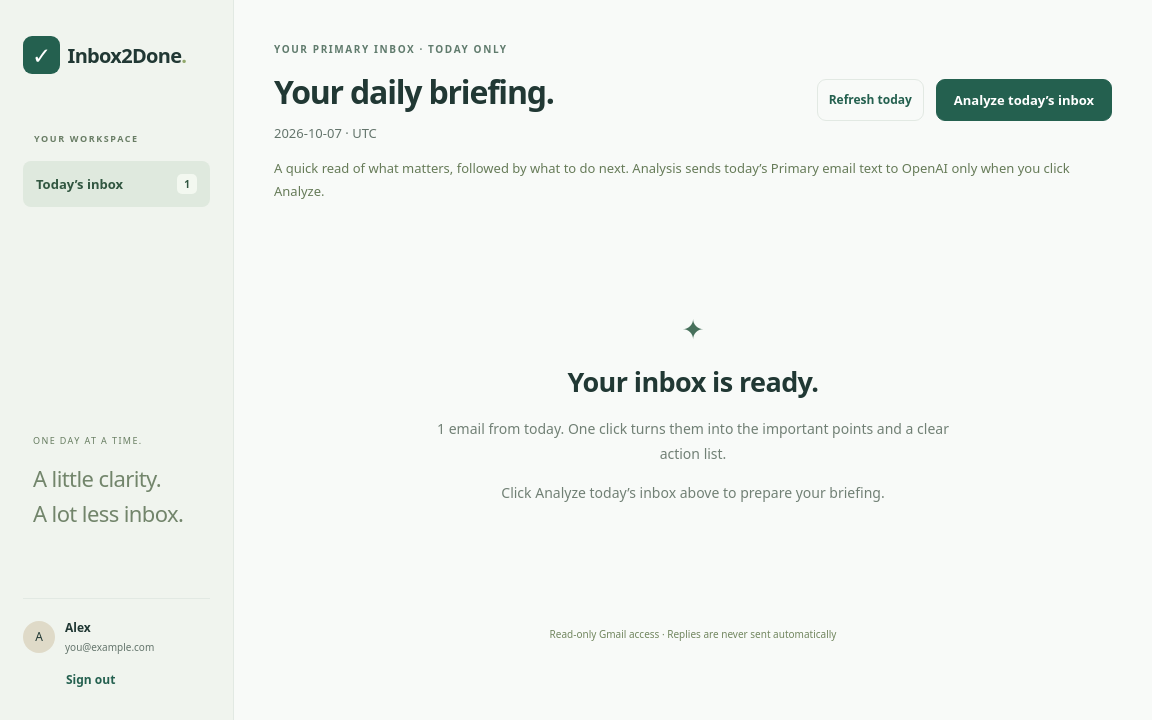
Test: sign out stops showing the inbox
Check: the heading "Your inbox is ready." is shown, box top-left (568, 363), bottom-right (818, 400)
Step 1. Click the button "Sign out" → coordinates (91, 680), box top-left (55, 664), bottom-right (126, 695)
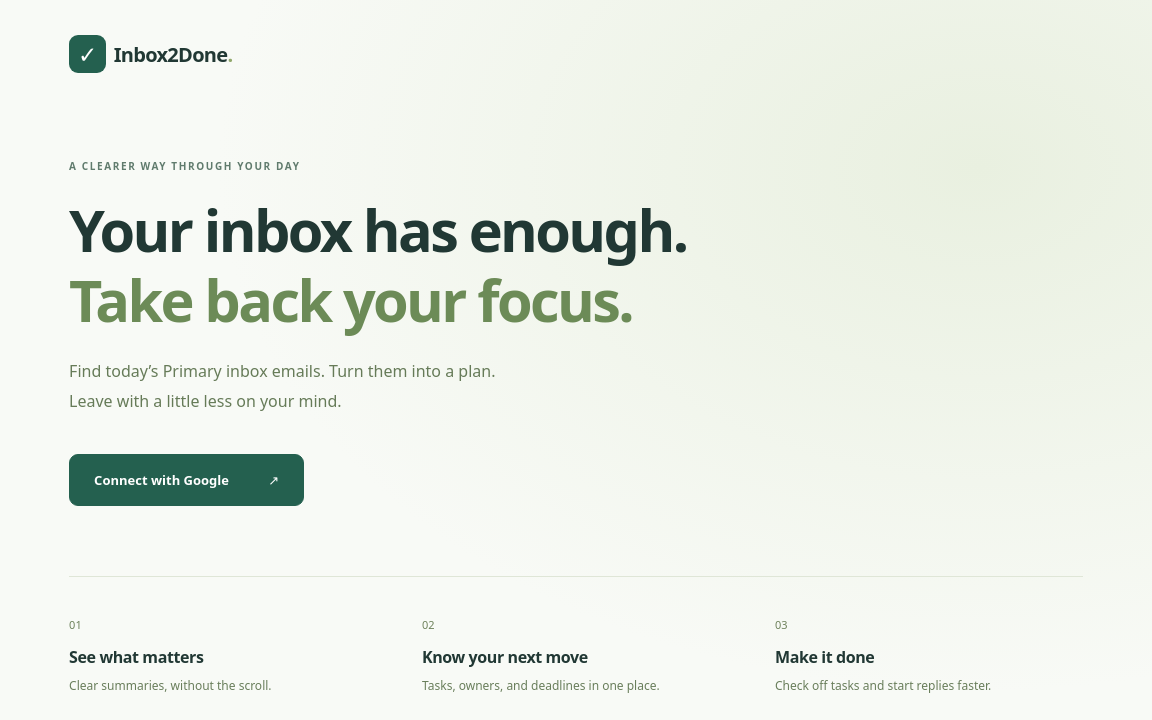
Check: the link "Connect with Google ↗" is shown, box top-left (69, 454), bottom-right (304, 506)
